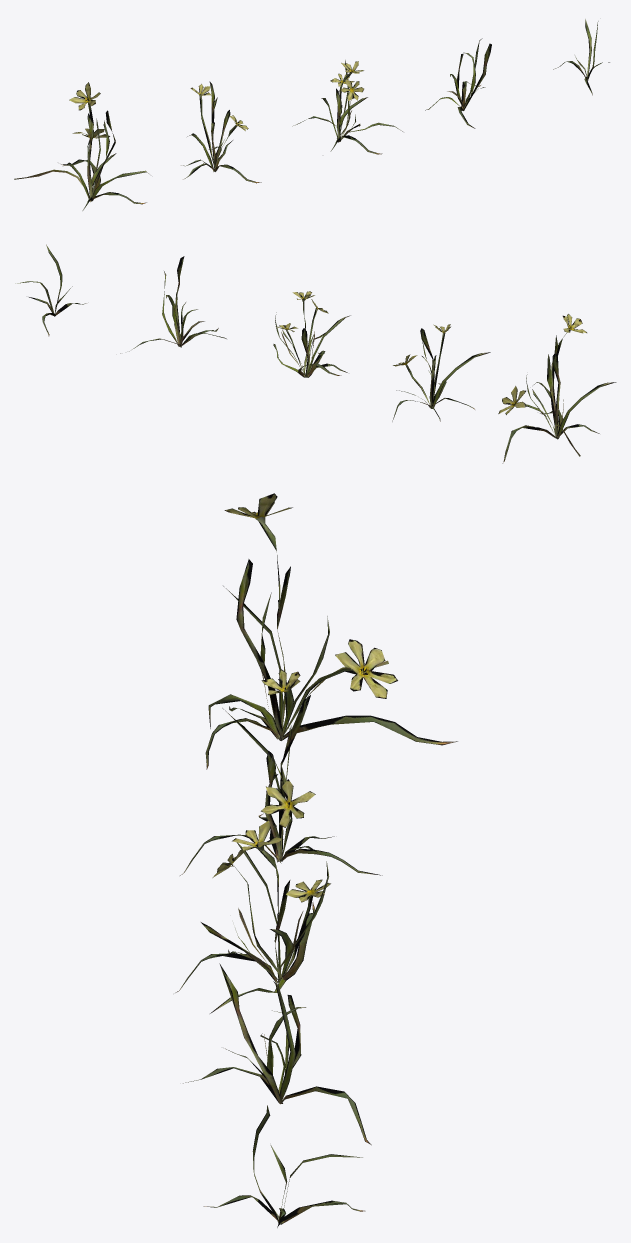
File: flower_empodium.glb
The picture shows the model from 3 angles, top to bottom: view 1: azimuth 30°, elevation 25°; view 2: azimuth 150°, elevation 25°; view 3: azimuth 270°, elevation 25°; orthographic projection. The views are drawn at different scales.
Parts seen in each view (by area): view 1: flower_empodium_a_LOD0; view 2: flower_empodium_a_LOD0; view 3: flower_empodium_a_LOD0.
Part boxes in pixels (<box>): flower_empodium_a_LOD0: <box>14,19,609,210</box>; flower_empodium_a_LOD0: <box>15,244,616,463</box>; flower_empodium_a_LOD0: <box>175,493,457,1227</box>.
Size of the model in its own units: 1.32 by 0.2684 by 0.2837.
1 material, 1 textured.
